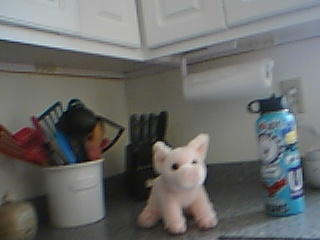piggy: (136, 132, 221, 236)
